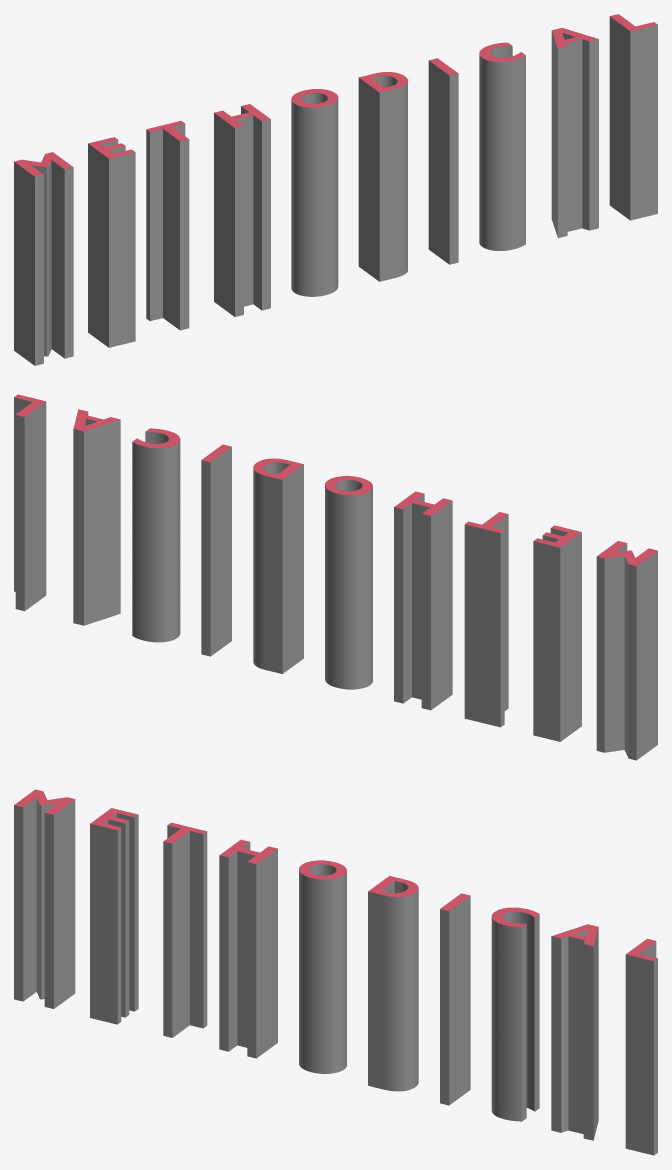
The model's file is methodicalText.obj.
The picture shows the model from 3 angles, top to bottom: view 1: azimuth 30°, elevation 25°; view 2: azimuth 150°, elevation 25°; view 3: azimuth 330°, elevation 25°; orthographic projection. The views are drawn at different scales.
Size of the model in its own units: 17.24 by 5 by 1.03.
